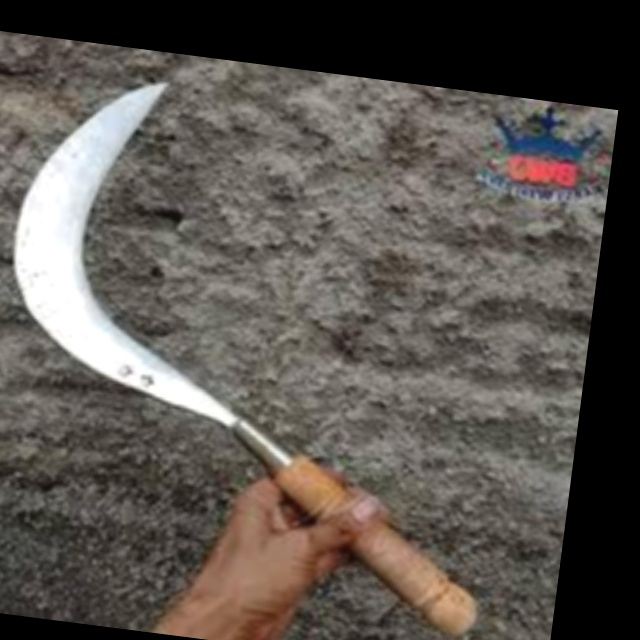Sharp-Object: (0, 53, 557, 640)
